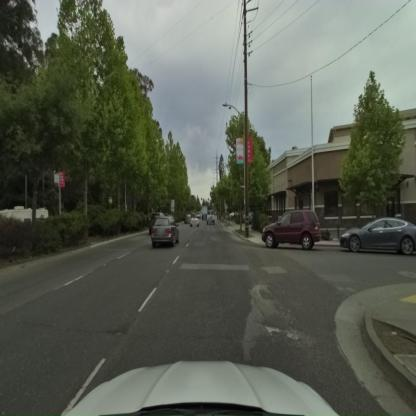car: (338, 219, 416, 256), (261, 209, 323, 249), (150, 217, 180, 249), (191, 217, 200, 228), (206, 214, 214, 225)
